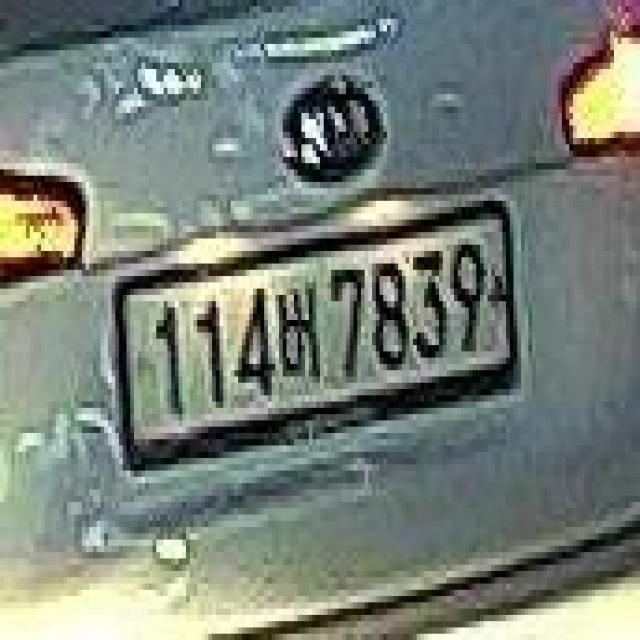illegal_plate: (111, 200, 523, 471)
